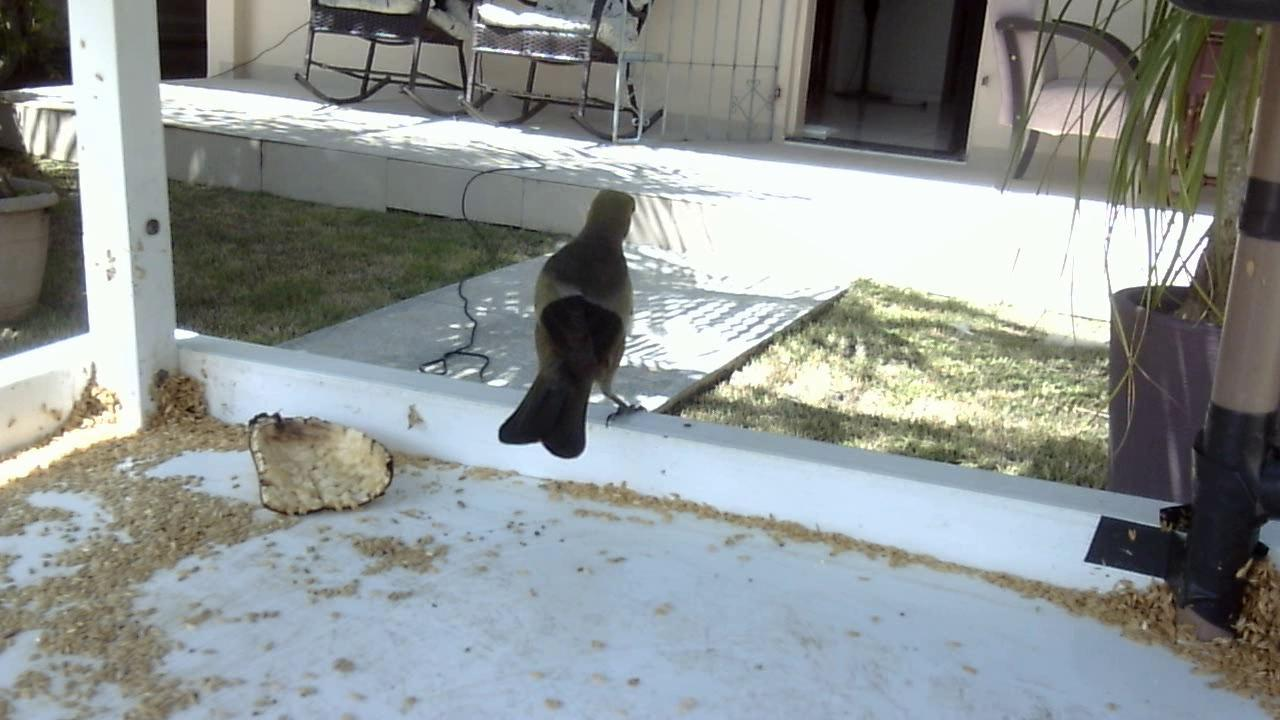sanhaco_do_coqueiro: (491, 185, 660, 469)
